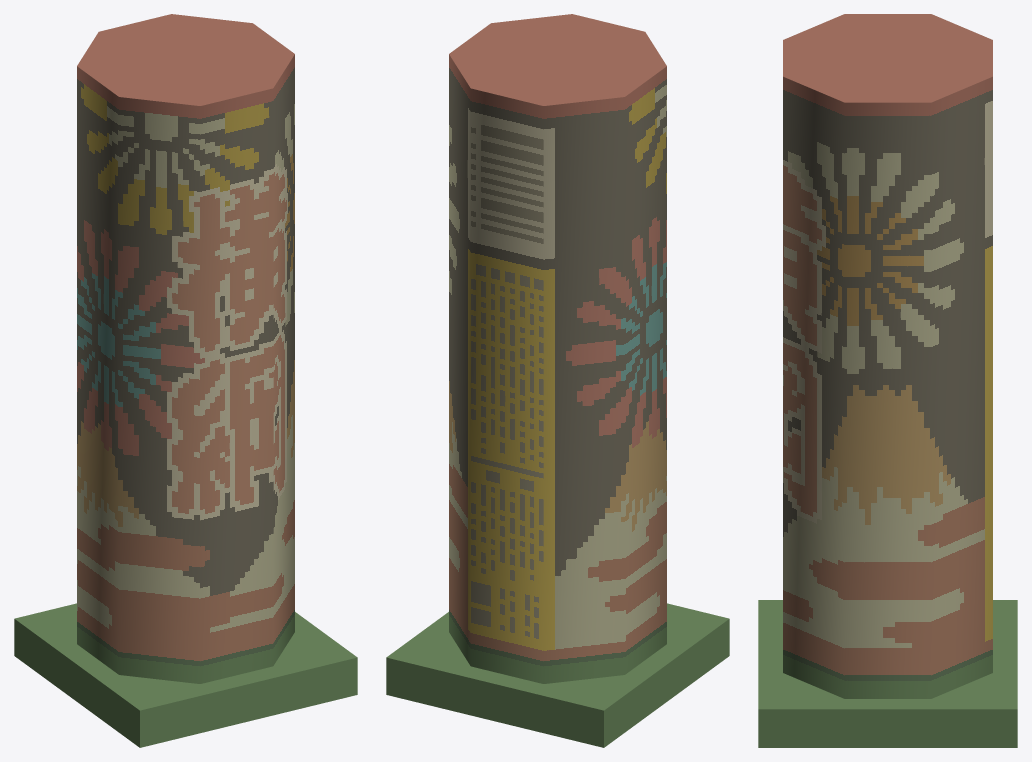
File: 0167_Roman_Candle.glb
The picture shows the model from 3 angles, left to right: view 1: azimuth 30°, elevation 25°; view 2: azimuth 150°, elevation 25°; view 3: azimuth 270°, elevation 25°; orthographic projection. The views are drawn at different scales.
Parts seen in each view (by area): view 1: part_0; view 2: part_0; view 3: part_0.
Boxes of the visible parts, box(x1,y1,x2,y2) form: part_0: box(14, 14, 357, 747); part_0: box(386, 14, 729, 747); part_0: box(758, 14, 1017, 747).
Bounding box in the file's own units: 0.064 × 0.1728 × 0.064.
1 material, 1 textured.
